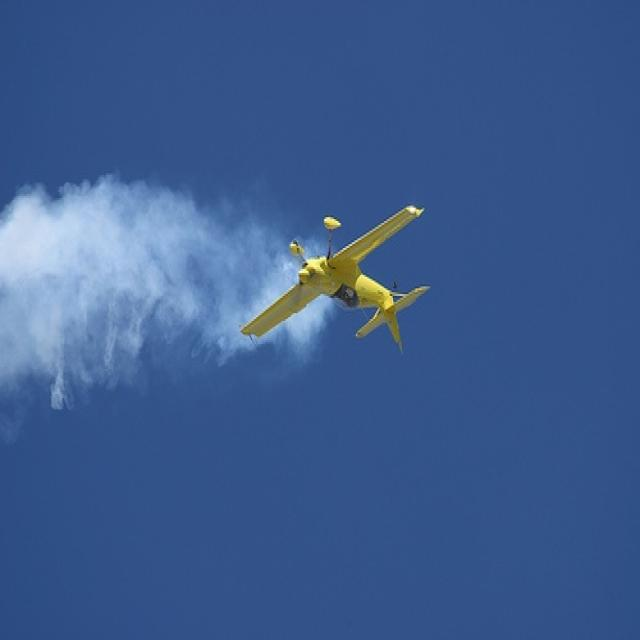aeroplane: (236, 202, 430, 363)
